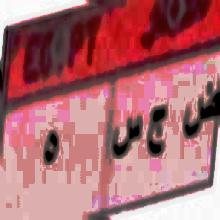5: (34, 119, 71, 185)
daad: (183, 84, 220, 142)
jeem: (146, 94, 170, 161)
seen: (111, 106, 144, 166)
